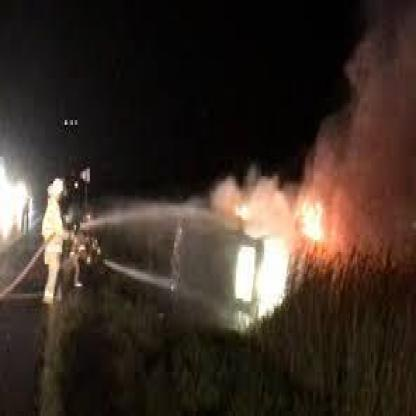fire: (281, 160, 343, 279)
smoke: (312, 38, 411, 260)
